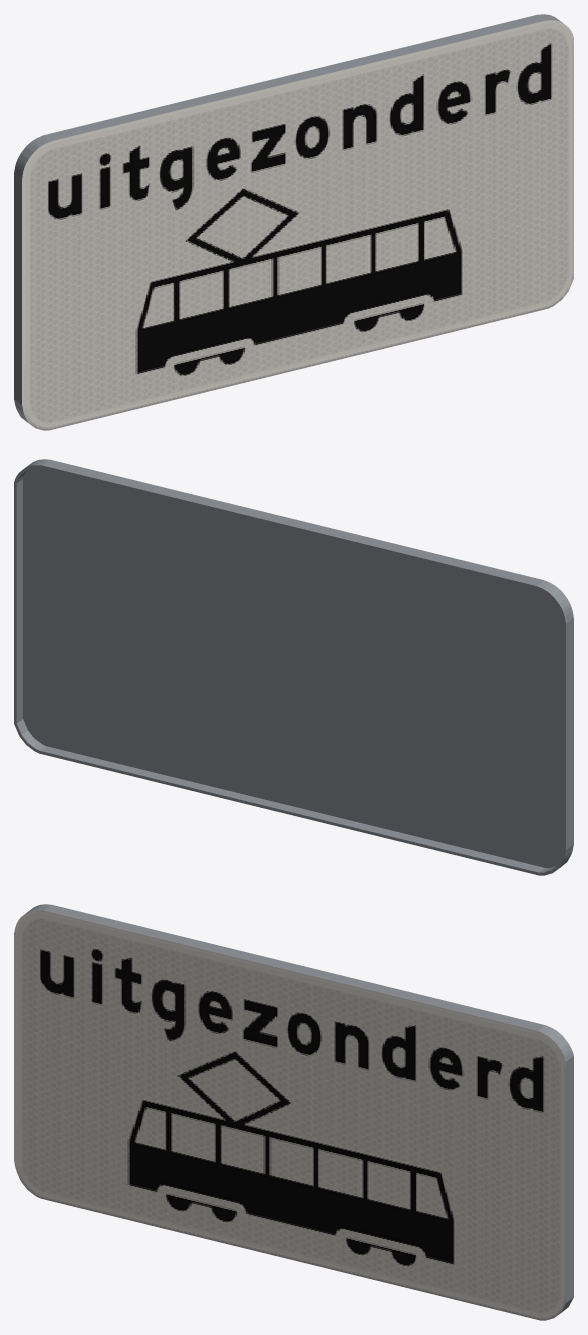
3 renders of one model, top to bottom at view 1: azimuth 30°, elevation 25°; view 2: azimuth 150°, elevation 25°; view 3: azimuth 330°, elevation 25°, orthographic.
Visible parts, largest first — view 1: cat_09a94fdc3b006308; view 2: cat_09a94fdc3b006308; view 3: cat_09a94fdc3b006308.
Part boxes in pixels (x1,y1,x2,y2): cat_09a94fdc3b006308: (14,14,573,430); cat_09a94fdc3b006308: (14,459,573,875); cat_09a94fdc3b006308: (14,904,573,1320).
Bounding box in the file's own units: 0.6 × 0.015 × 0.3.
2 materials, 1 textured.
